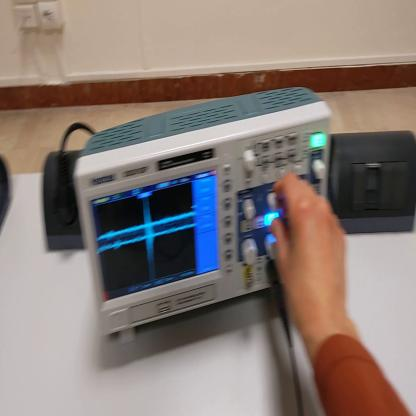hand: (269, 173, 348, 334)
oscilloscope: (82, 87, 338, 342)
socket: (45, 154, 86, 254), (2, 155, 13, 232)
